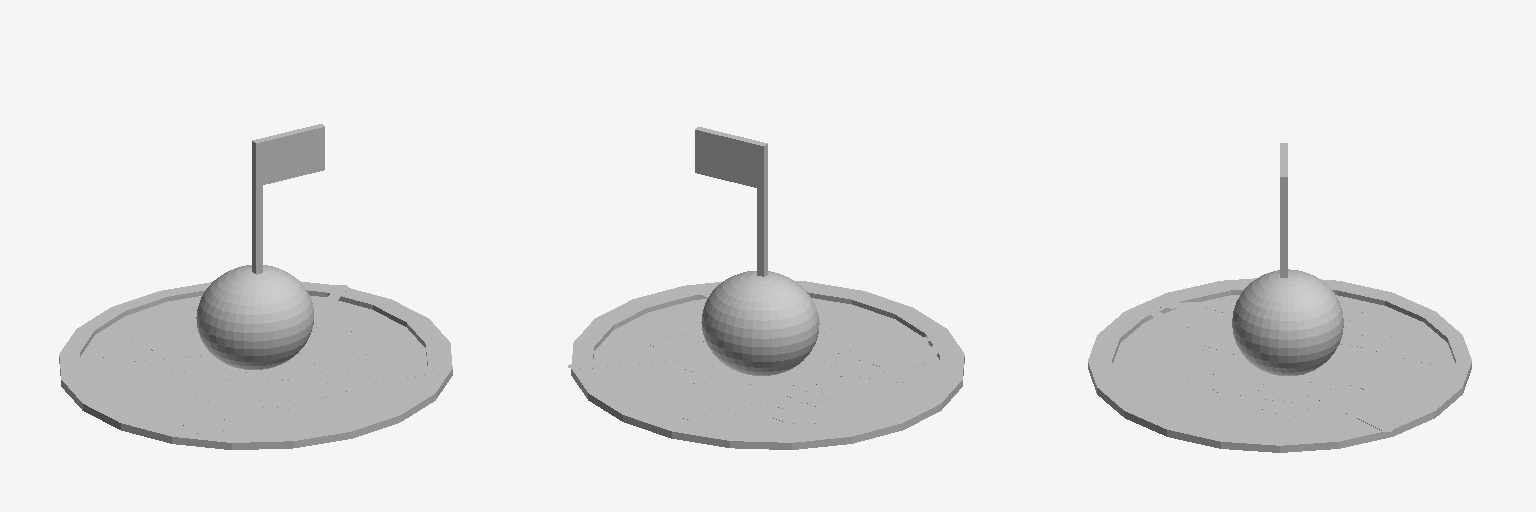
File: meatball.obj
The picture shows the model from 3 angles: view 1: azimuth 30°, elevation 25°; view 2: azimuth 150°, elevation 25°; view 3: azimuth 270°, elevation 25°; orthographic projection.
Visible parts, largest first — view 1: obj_0; view 2: obj_0; view 3: obj_0.
Boxes of the visible parts, x1,y1,x2,y2 form: obj_0: [59, 124, 452, 449]; obj_0: [568, 127, 964, 449]; obj_0: [1088, 143, 1471, 452].
Bounding box in the file's own units: 50 × 31.01 × 48.